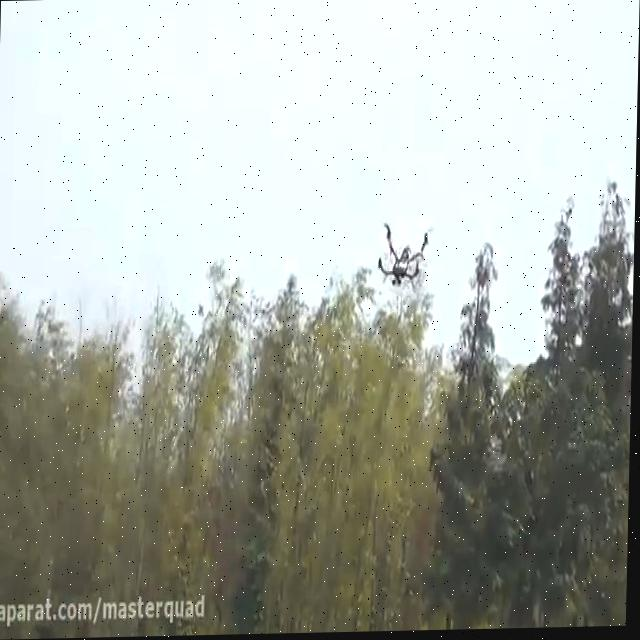drone: (371, 215, 436, 291)
